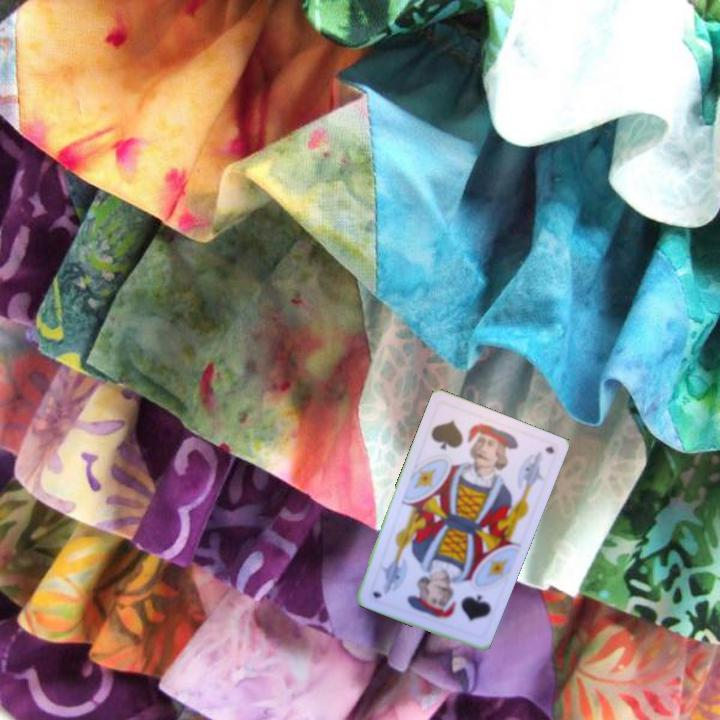s_j.png: (419, 565, 501, 642), (419, 400, 501, 477)
